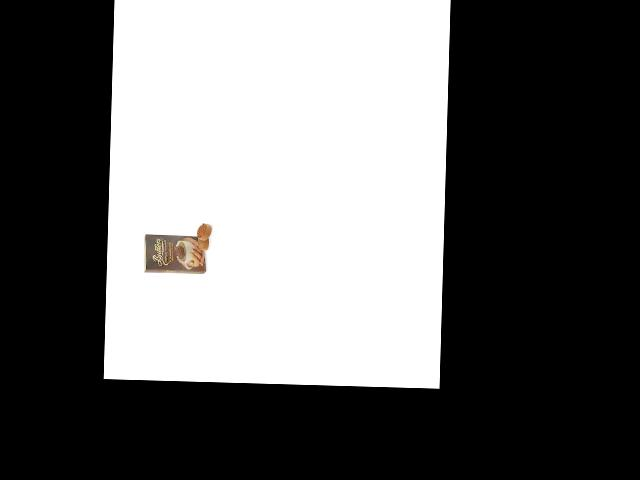chocolate: (141, 228, 209, 276)
